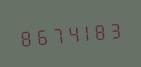eight: (17, 24, 31, 50), (92, 18, 106, 43)
four: (62, 20, 76, 46)
one: (77, 19, 91, 45)
seven: (47, 22, 61, 47)
six: (32, 23, 46, 49)
three: (107, 16, 121, 42)
